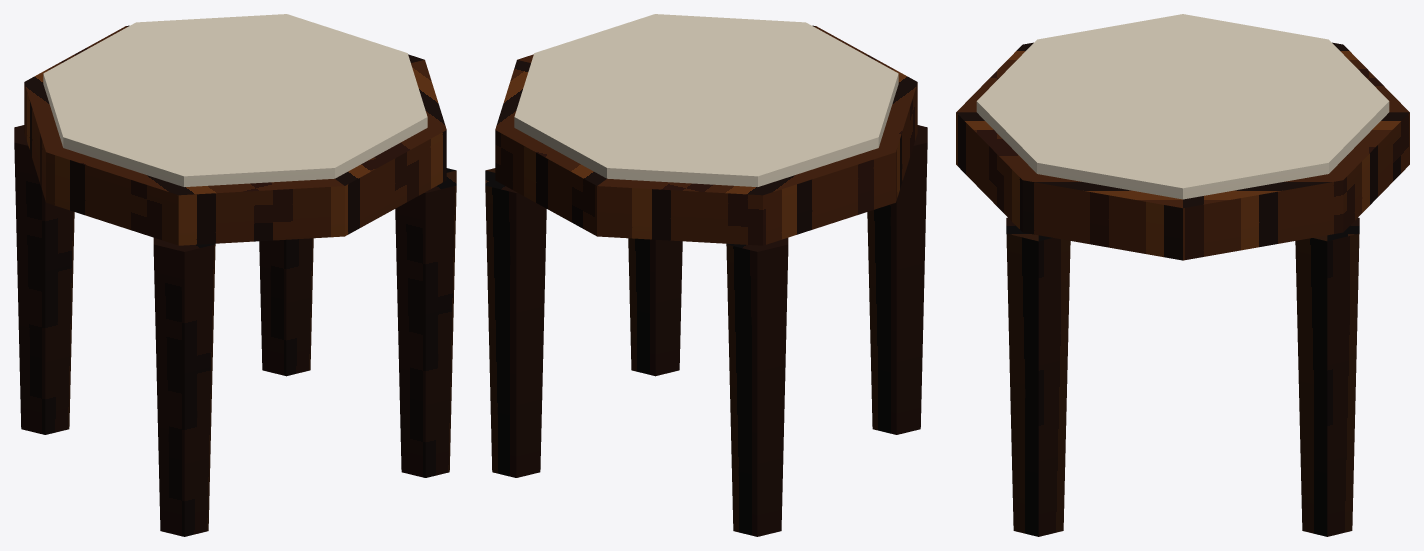
File: giant_stool.glb
3 views of the same model, side by side, from view 1: azimuth 30°, elevation 25°; view 2: azimuth 150°, elevation 25°; view 3: azimuth 270°, elevation 25° (orthographic). The views are drawn at different scales.
Parts seen in each view (by area): view 1: giant_stool; view 2: giant_stool; view 3: giant_stool.
Part boxes in pixels (x1,y1,x2,y2): giant_stool: (14,14,456,536); giant_stool: (485,14,927,536); giant_stool: (956,14,1409,536).
Size of the model in its own units: 1.1 by 0.97 by 1.1.
Materials: 2 (1 with a texture image).
